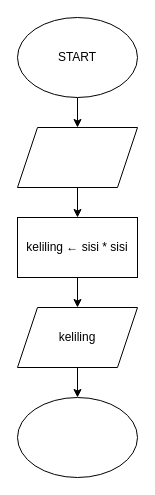
The diagram is 155 pixels wide and 495 high, and some of its shapes have lost their labels. The centre of each missing label's shape, as x and y in pixels:
"END" goes at (x=77, y=437).
"sisi" goes at (x=77, y=157).
